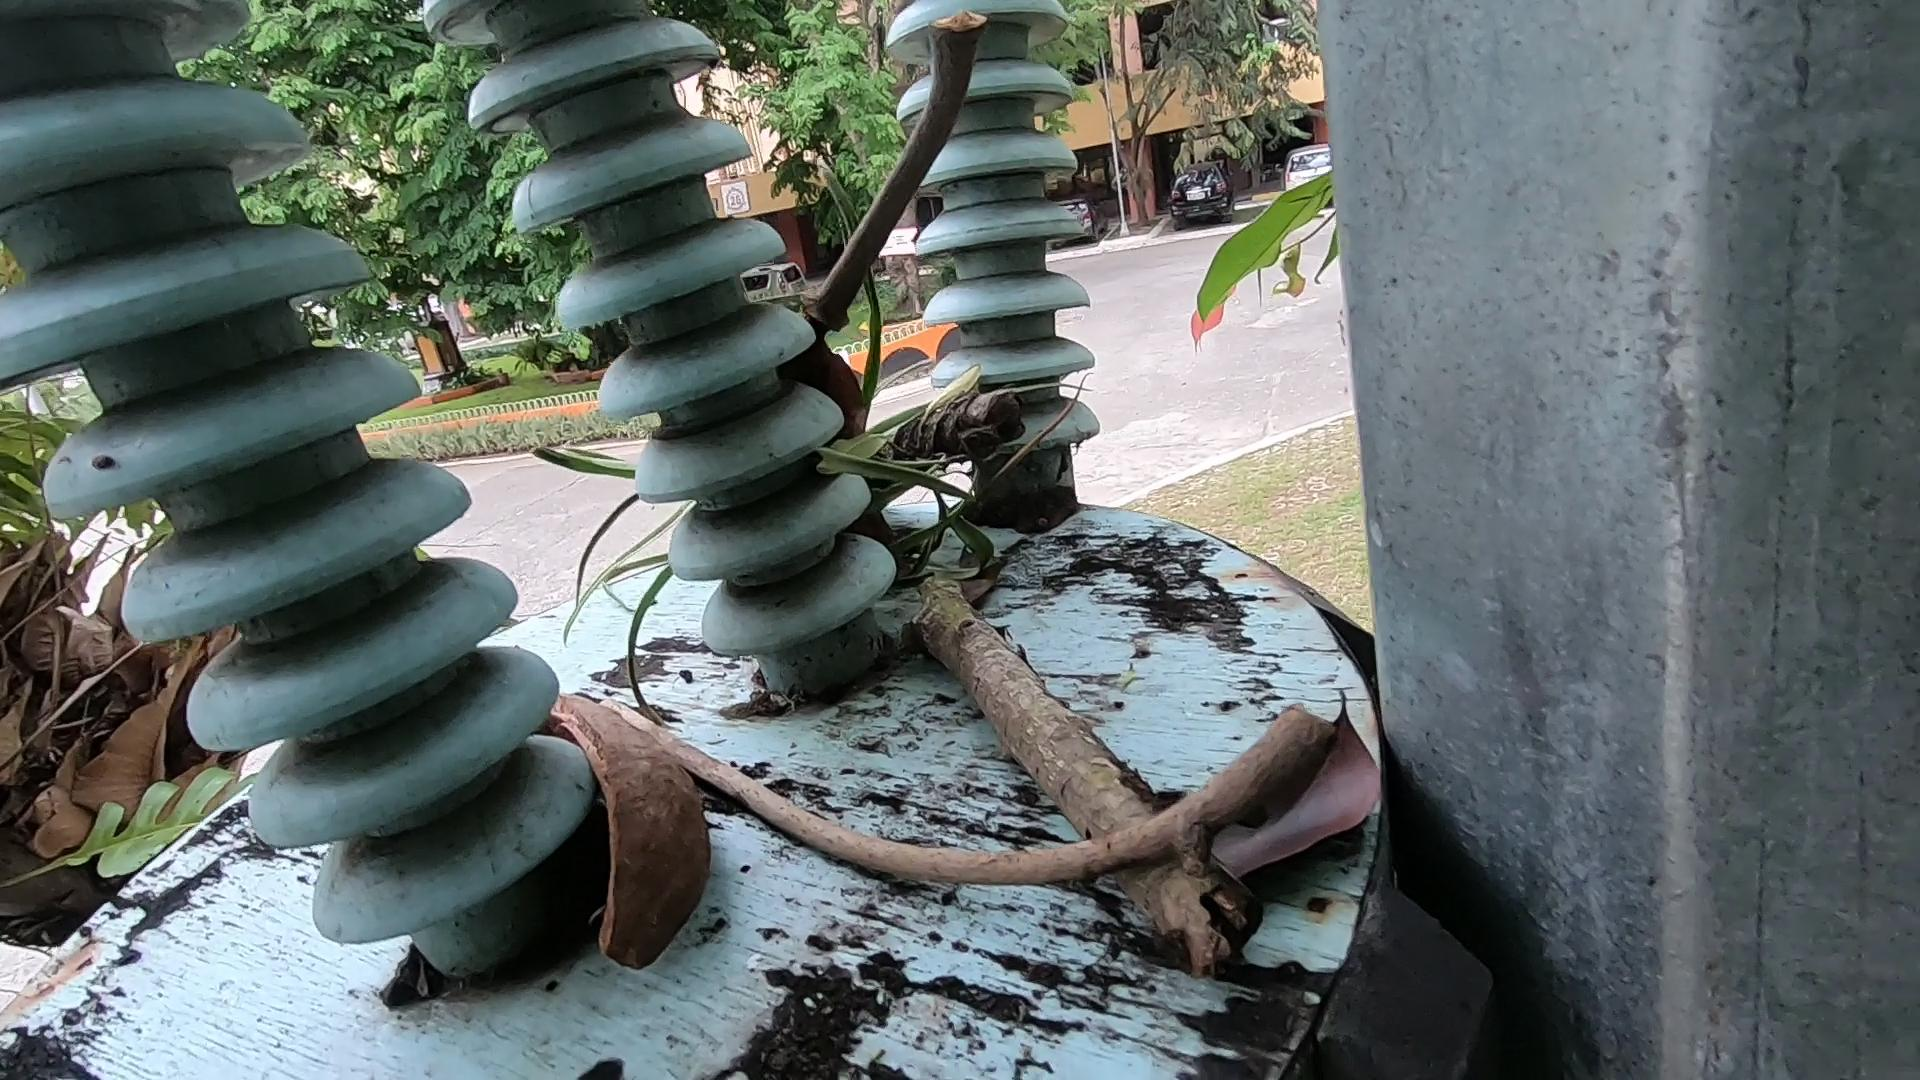branch with leaves: (724, 315, 1276, 990)
leaf: (1182, 728, 1353, 894)
mahogany fruit: (495, 646, 771, 986)
tree branch: (604, 674, 1249, 940), (808, 1, 984, 357)
